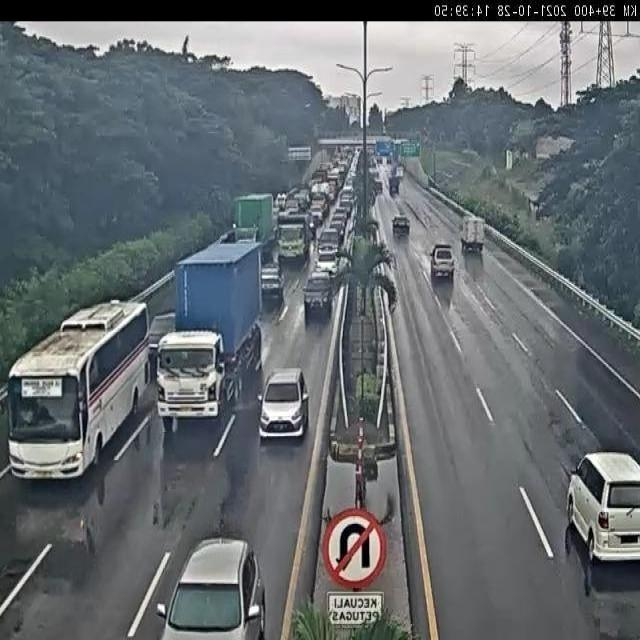Bus: (8, 297, 150, 475)
Car: (154, 537, 266, 637), (566, 451, 640, 563), (258, 368, 309, 440), (302, 270, 334, 322), (430, 244, 455, 280), (315, 251, 339, 277), (392, 216, 410, 236)
Truck: (156, 244, 262, 434), (230, 194, 276, 256), (276, 218, 310, 268), (461, 217, 485, 250)
